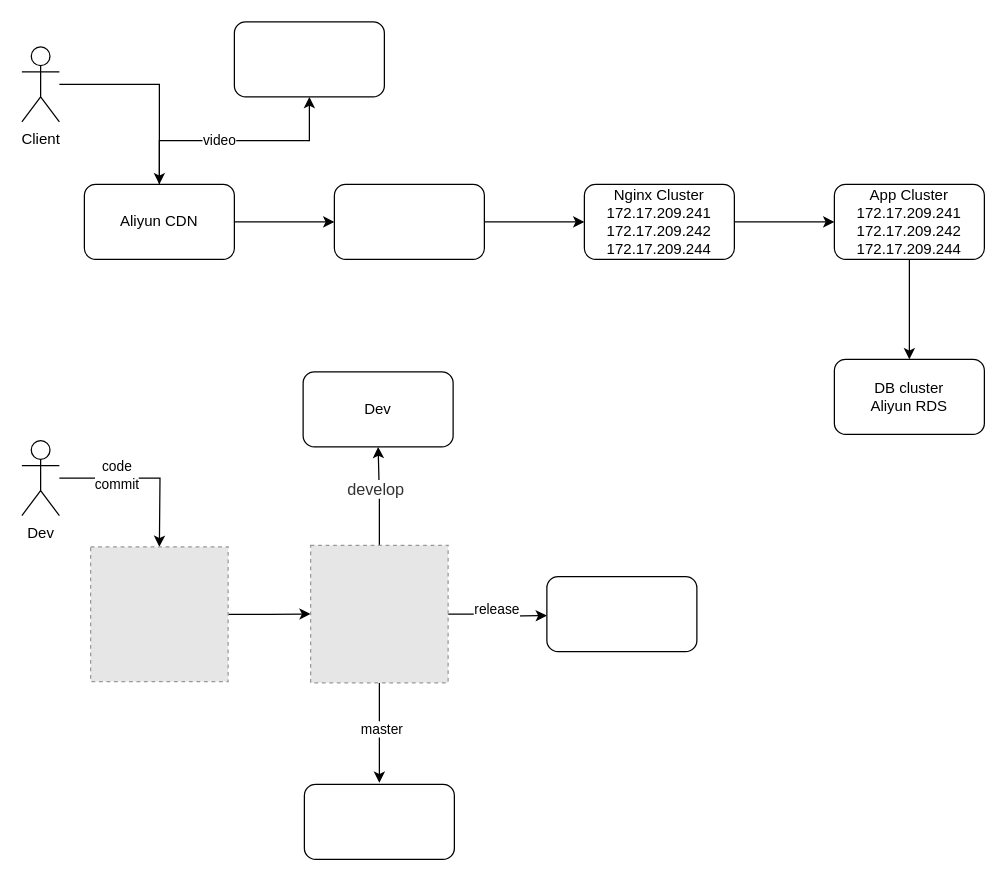
Image size: 1006x881. Some labels were removed from this diagram. Grey dashed boxes stand in for pictures. The box of each missing label's shape, as (x1, y1, x2, y2) in pixels:
Aliyun OSS: (233, 21, 384, 97)
Pre/Pro: (303, 783, 454, 859)
SLB: (333, 183, 484, 259)
Test: (546, 575, 697, 652)
